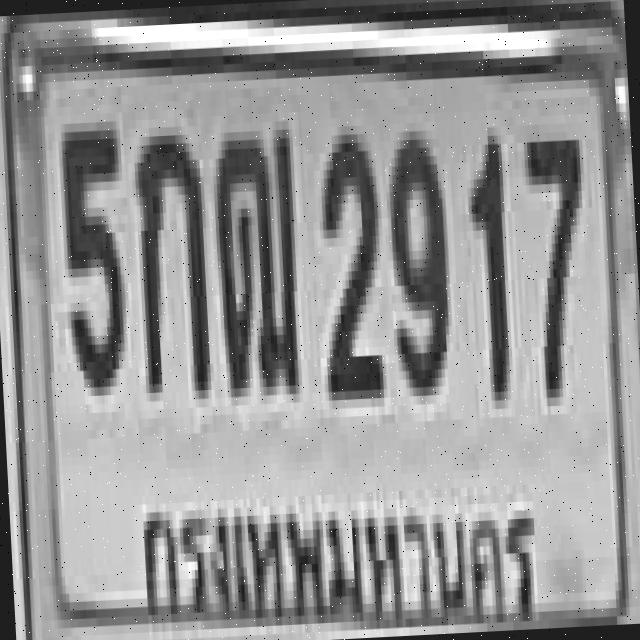1: (464, 127, 510, 393)
10GorGai: (133, 125, 208, 392)
2: (312, 125, 384, 392)
27ThorPhuThao: (210, 120, 302, 388)
5: (57, 113, 126, 389)
7: (522, 127, 590, 394)
9: (383, 122, 449, 389)
Bangkok: (129, 468, 546, 640)
